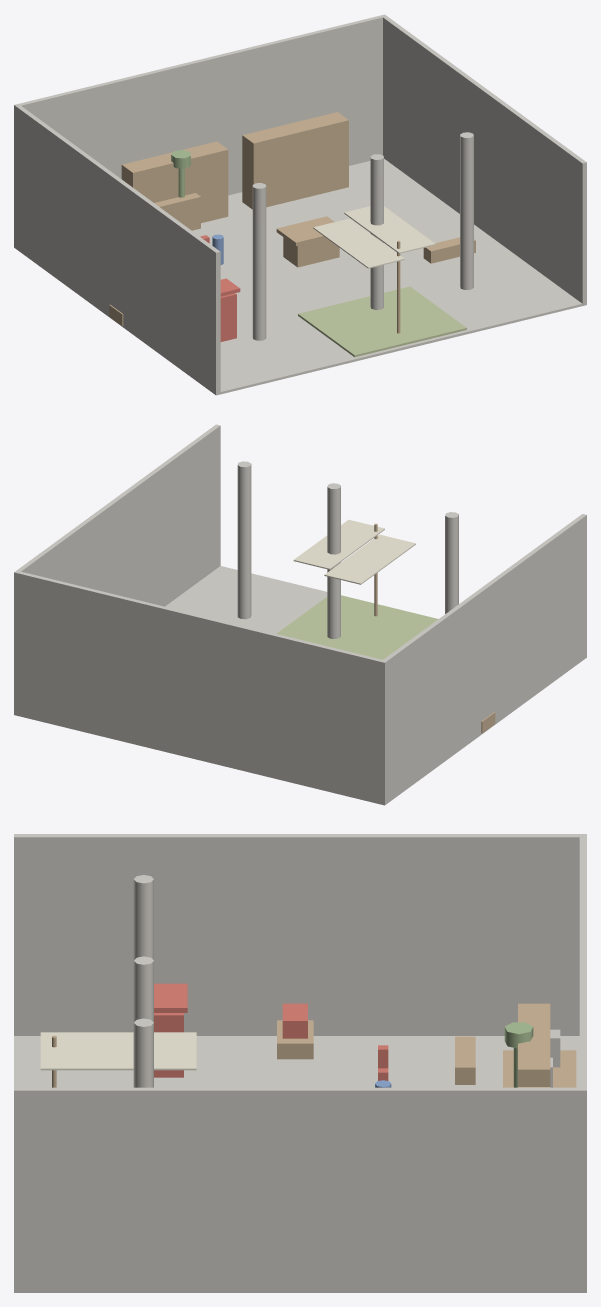
Rendered from ortest2-simple-bodies-fixed.glb.
The picture shows the model from 3 angles, top to bottom: view 1: azimuth 30°, elevation 25°; view 2: azimuth 150°, elevation 25°; view 3: azimuth 270°, elevation 25°; orthographic projection. The views are drawn at different scales.
Visible parts, largest first — view 1: boden, wand_hinten, wand_links, wand_rechts, vitrine_b, rasen, vitrine_a, saeule_0, saeule_2, segel_1, segel_2, saeule_1 (+5 smaller); view 2: wand_hinten, wand_links, wand_rechts, boden, rasen, saeule_2, segel_1, saeule_1, segel_2, saeule_0; view 3: wand_rechts, wand_links, boden, segel_2, wand_hinten, vitrine_a, saeule_0, segel_1, saeule_2, saeule_1, schwamm_tisch, koffer_modul (+5 smaller).
Part boxes in pixels (x1,y1,x2,y2): boden: (14, 159, 586, 395); wand_hinten: (14, 14, 386, 247); wand_links: (14, 104, 220, 393); wand_rechts: (381, 14, 586, 303); vitrine_b: (242, 112, 348, 209); rasen: (298, 286, 466, 357); vitrine_a: (121, 141, 228, 223); saeule_0: (252, 183, 266, 340); saeule_2: (460, 132, 473, 289); segel_1: (313, 218, 404, 268); segel_2: (344, 206, 435, 253); saeule_1: (370, 154, 383, 309); wand_hinten: (14, 571, 387, 803); wand_links: (380, 514, 586, 803); wand_rechts: (14, 424, 220, 713); boden: (14, 566, 586, 805); rasen: (276, 595, 438, 659); saeule_2: (237, 461, 251, 619); segel_1: (324, 534, 415, 584); saeule_1: (327, 483, 340, 638); segel_2: (293, 519, 384, 569); saeule_0: (445, 512, 458, 613); wand_rechts: (14, 1087, 586, 1290); wand_links: (14, 834, 586, 1035); boden: (14, 1036, 586, 1292); segel_2: (40, 1043, 196, 1070); wand_hinten: (579, 834, 586, 1290); vitrine_a: (518, 1003, 550, 1086); saeule_0: (133, 875, 153, 960); segel_1: (40, 1032, 196, 1043); saeule_2: (133, 1018, 153, 1087); saeule_1: (133, 956, 153, 1022); schwamm_tisch: (503, 1050, 576, 1087); koffer_modul: (277, 1020, 313, 1059).
Bounding box in the file's own units: 13.26 × 5.26 × 12.48.
